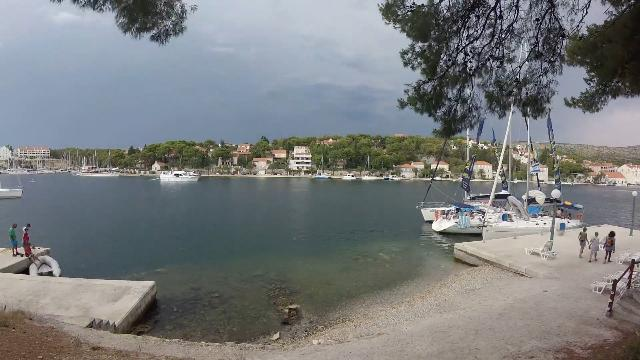ferry: (157, 168, 207, 184)
